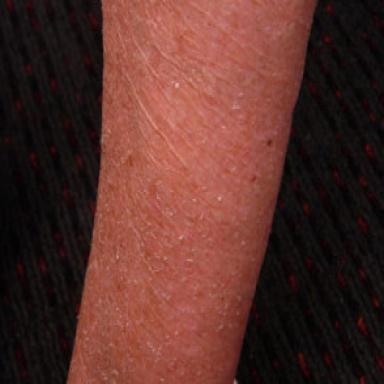eczema: (67, 1, 316, 382)
